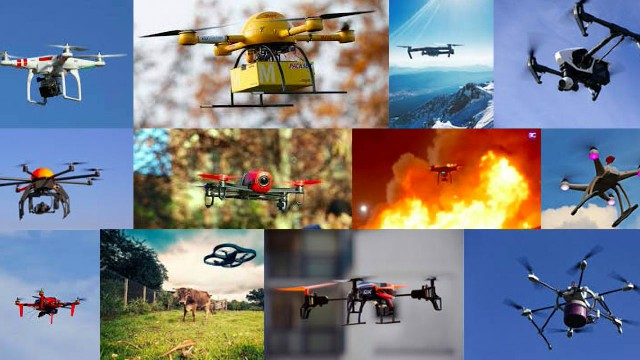maybay_khongnguoilai: (144, 10, 369, 102), (510, 251, 633, 344), (514, 5, 636, 94), (289, 269, 449, 330), (1, 36, 118, 107), (559, 143, 640, 224), (3, 157, 103, 220), (192, 169, 321, 211), (18, 282, 79, 324), (391, 35, 462, 64), (206, 240, 256, 274), (426, 160, 459, 182)
